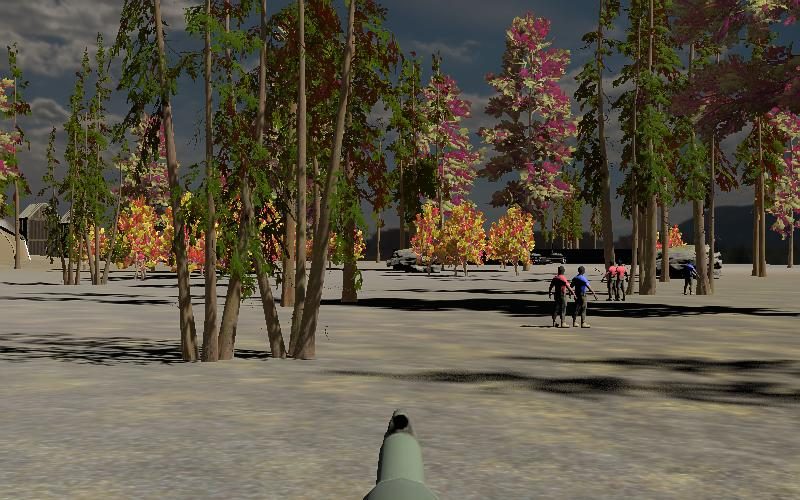House: (18, 200, 64, 258), (18, 201, 63, 259)
Human: (568, 264, 597, 329), (547, 265, 576, 329), (601, 257, 620, 303), (602, 258, 620, 303), (680, 258, 700, 296), (614, 259, 630, 303), (614, 260, 630, 303)
